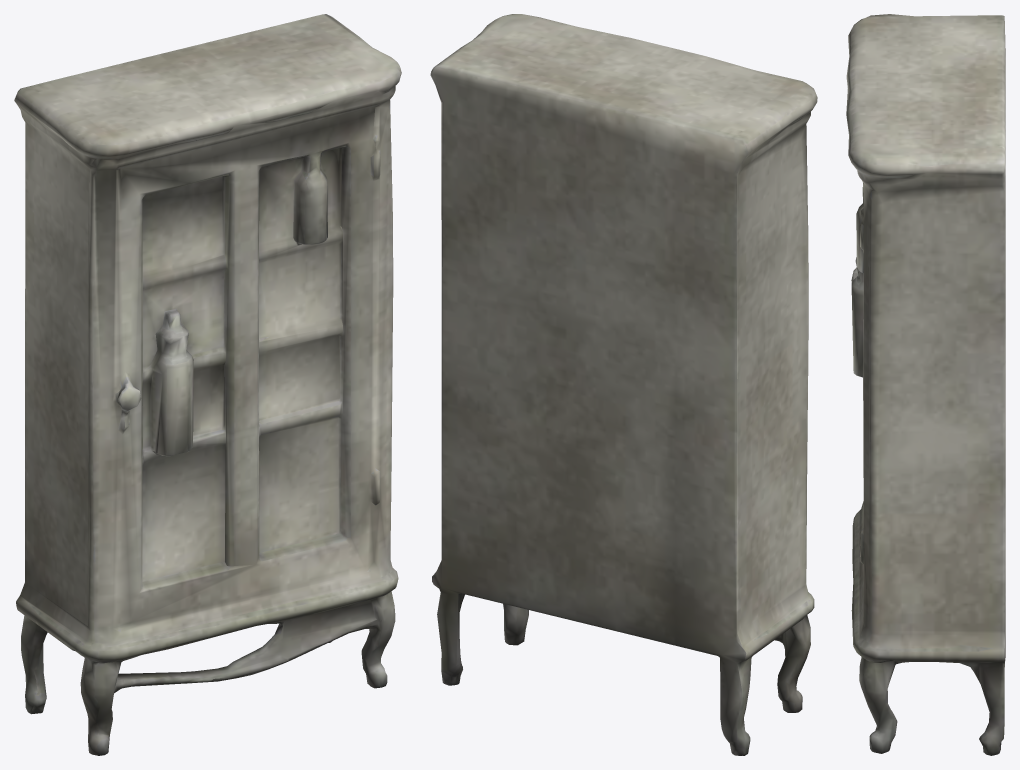
Rendered from old-white-painted-medicine-cabinet-v001.glb.
The picture shows the model from 3 angles, left to right: view 1: azimuth 30°, elevation 25°; view 2: azimuth 150°, elevation 25°; view 3: azimuth 270°, elevation 25°; orthographic projection. The views are drawn at different scales.
Visible parts, largest first — view 1: old-white-painted-medicine-cabinet; view 2: old-white-painted-medicine-cabinet; view 3: old-white-painted-medicine-cabinet.
Boxes of the visible parts, left/top/right/bottom form: old-white-painted-medicine-cabinet: left=14, top=14, right=401, bottom=755; old-white-painted-medicine-cabinet: left=430, top=14, right=817, bottom=755; old-white-painted-medicine-cabinet: left=846, top=14, right=1005, bottom=755.
Bounding box in the file's own units: 1.08 × 1.98 × 0.4766.
Materials: 1 (1 with a texture image).
